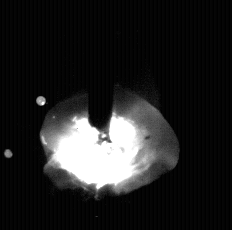arame: (88, 0, 114, 143)
poca: (39, 0, 179, 230)
